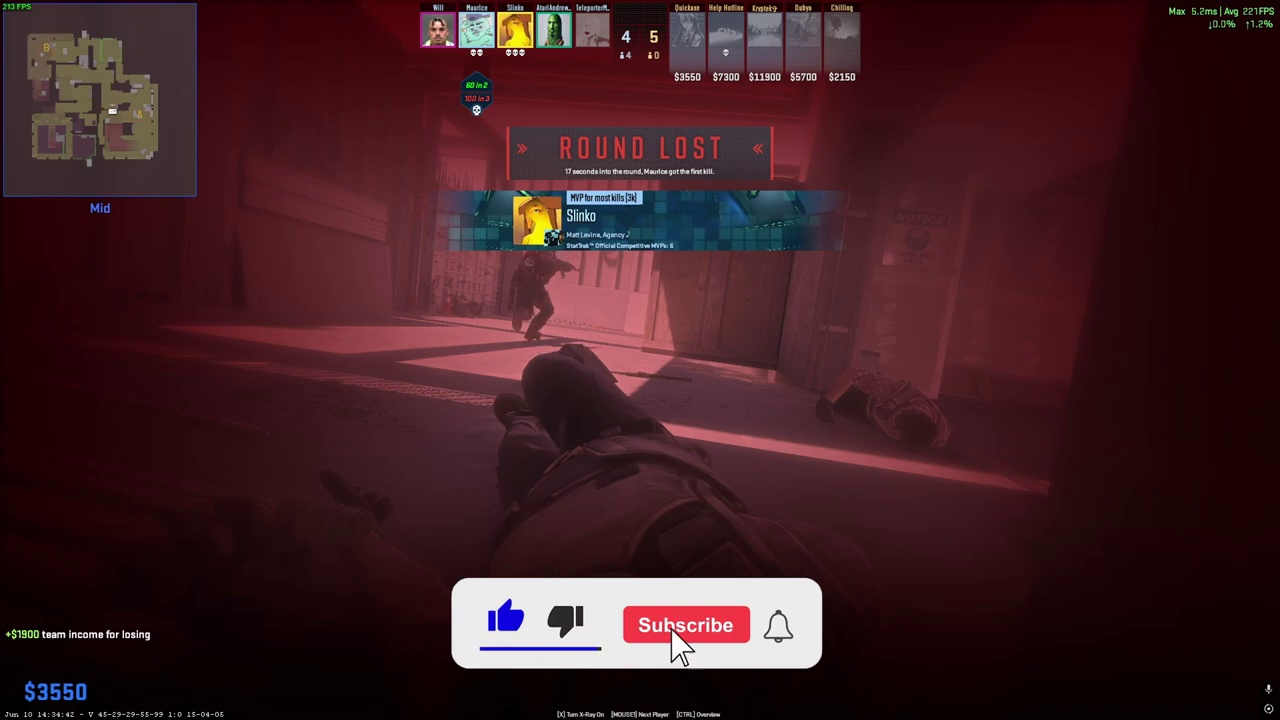CT: (513, 250, 564, 342)
